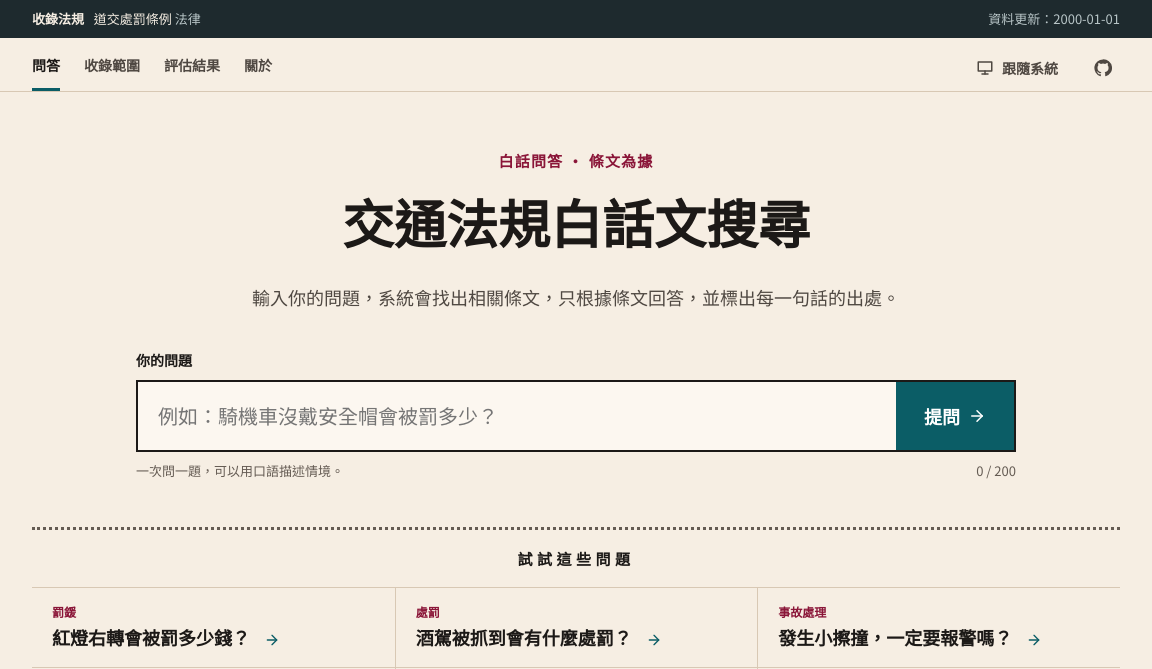
Test case: citations, evidence and the full-text panel (desktop) › tells the user that Esc closes the panel
Type "紅燈右轉會被罰多少錢？" into the text box labelled "你的問題" at (517, 416), box [138,382,896,450]
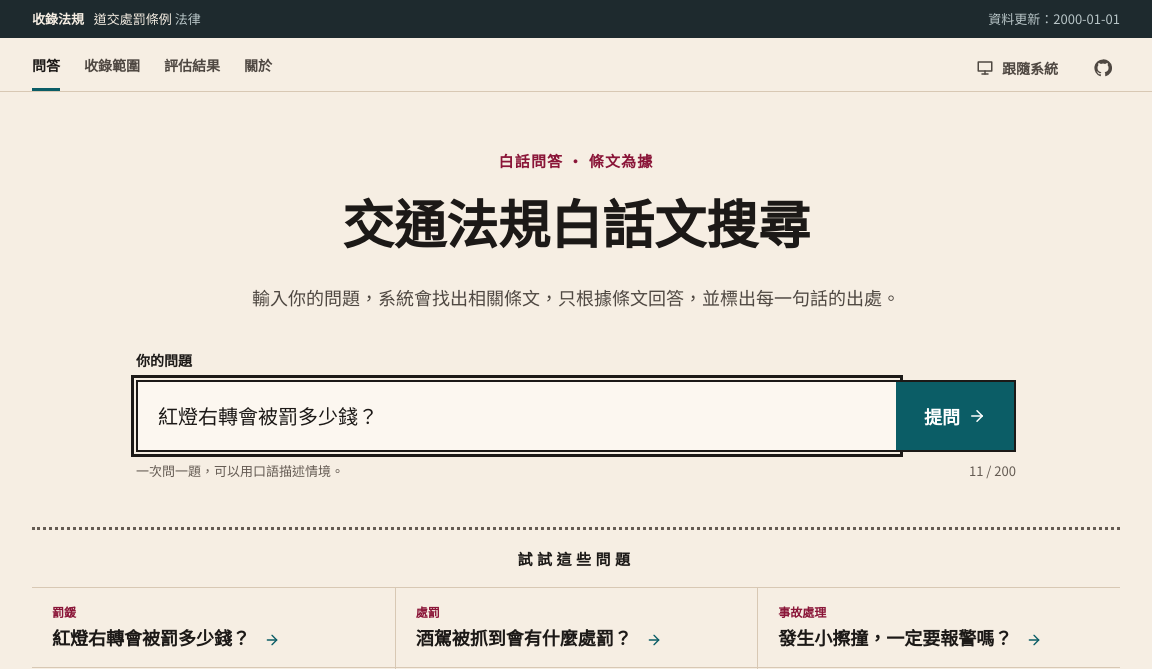
Click the button "提問" at (955, 416), box [896,382,1014,450]
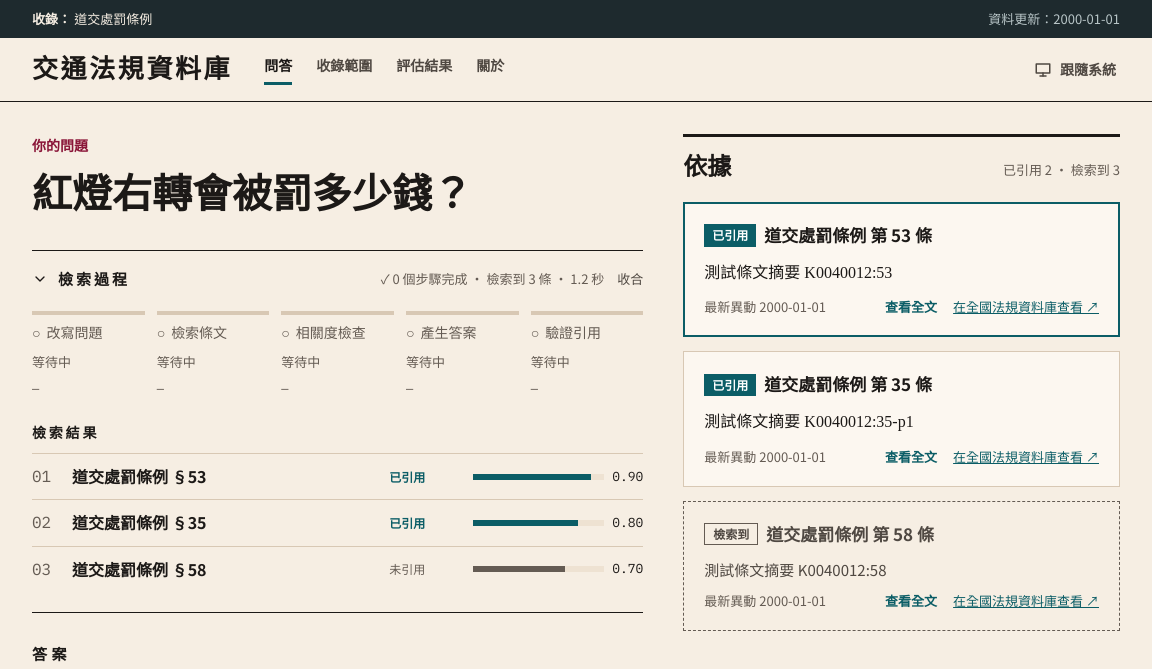
Click the button with aria-label "查看道交處罰條例 第 53 條全文" at (911, 307), box [885,296,937,318]
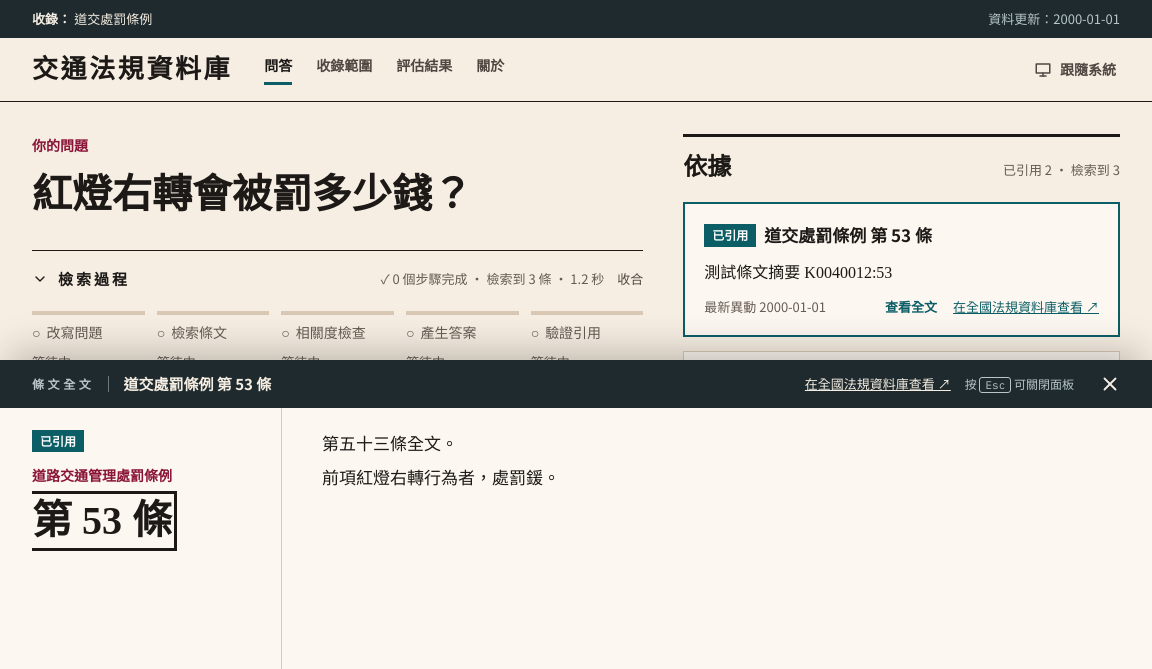
Expected: the text "Esc" is shown, [980,377,1011,393]
Expected: the text "按 Esc 可關閉面板" is shown, [965,374,1074,394]
